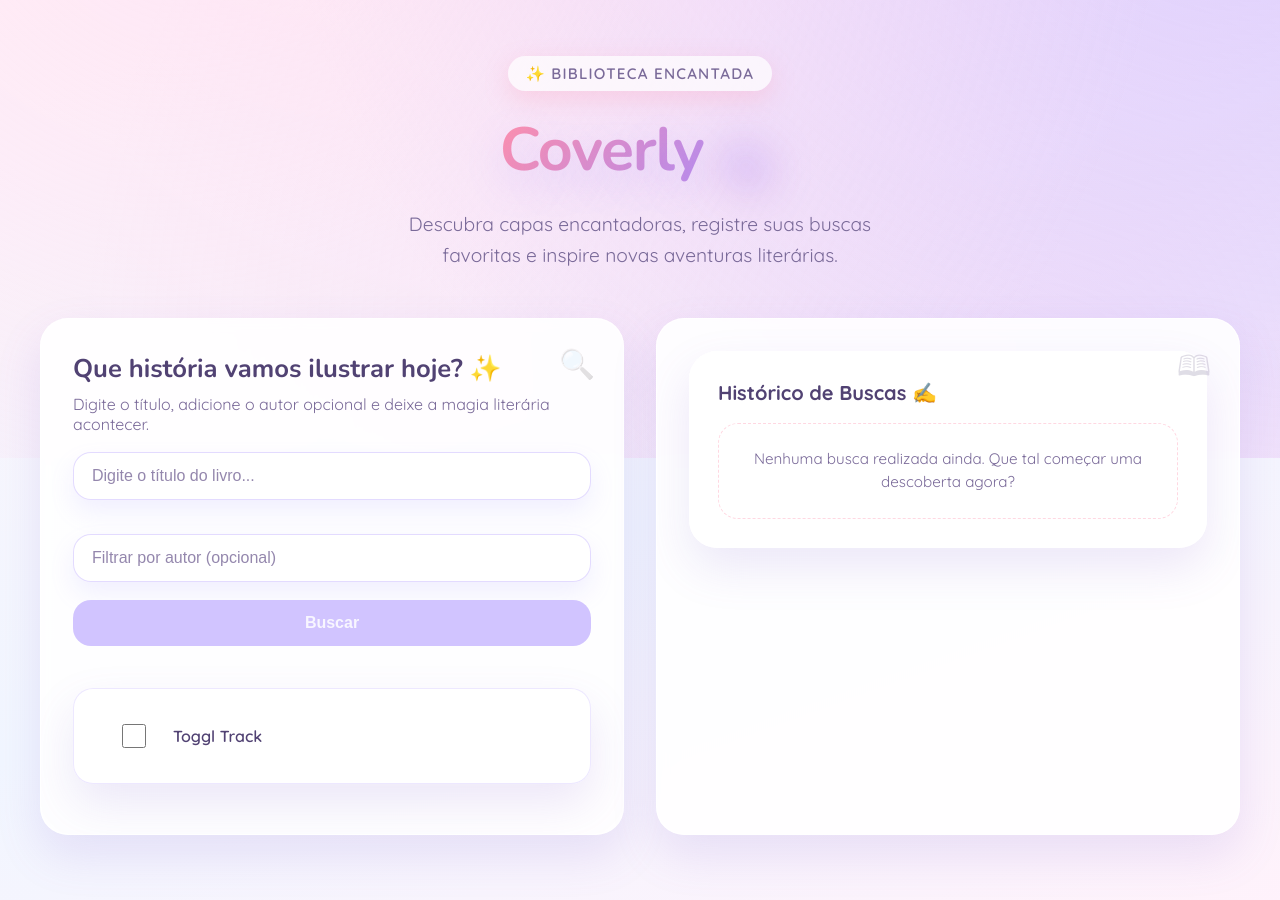
Test case: HomePage Toggl Track integration › enables the Toggl switch and shows tracked hours using the last searched title
This screenshot has width=1280, height=900.
Type "O Hobbit" into the field with placeholder "Digite o título do livro..." at (332, 476), box left=73, top=452, right=591, bottom=500
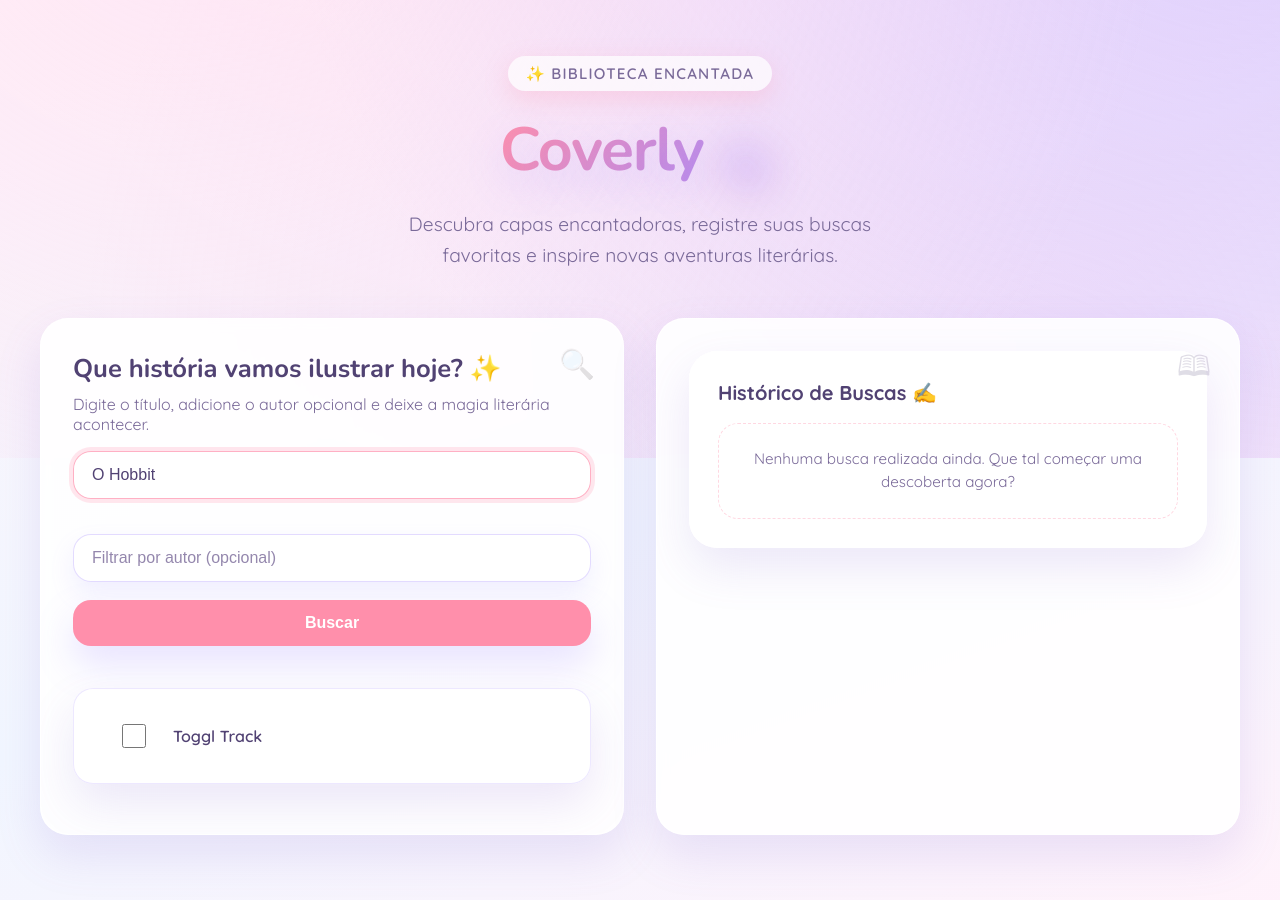
Click the button "Buscar" at (332, 623), box left=73, top=600, right=591, bottom=646
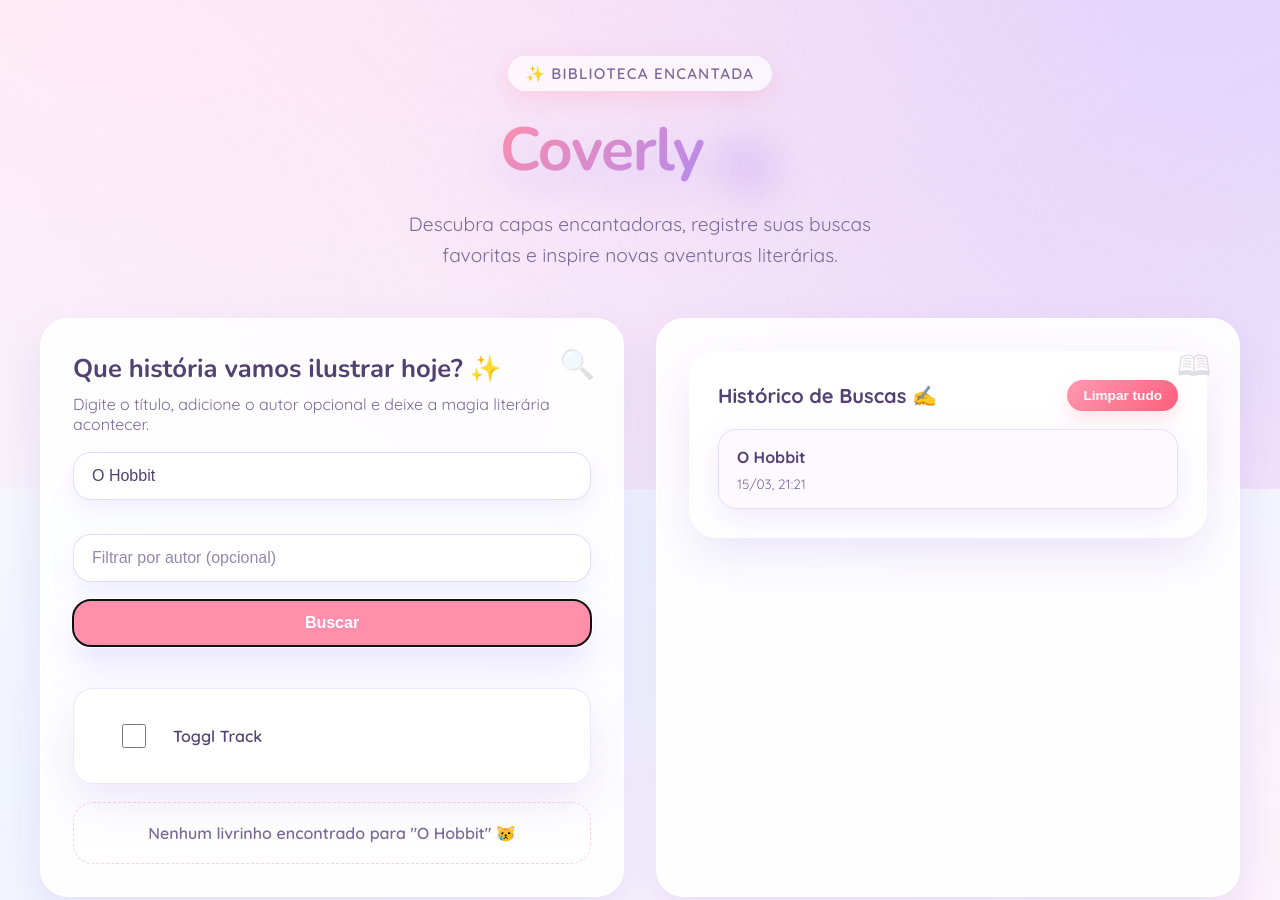
Click the checkbox labelled "Toggl Track" at (134, 736), box left=110, top=724, right=158, bottom=748
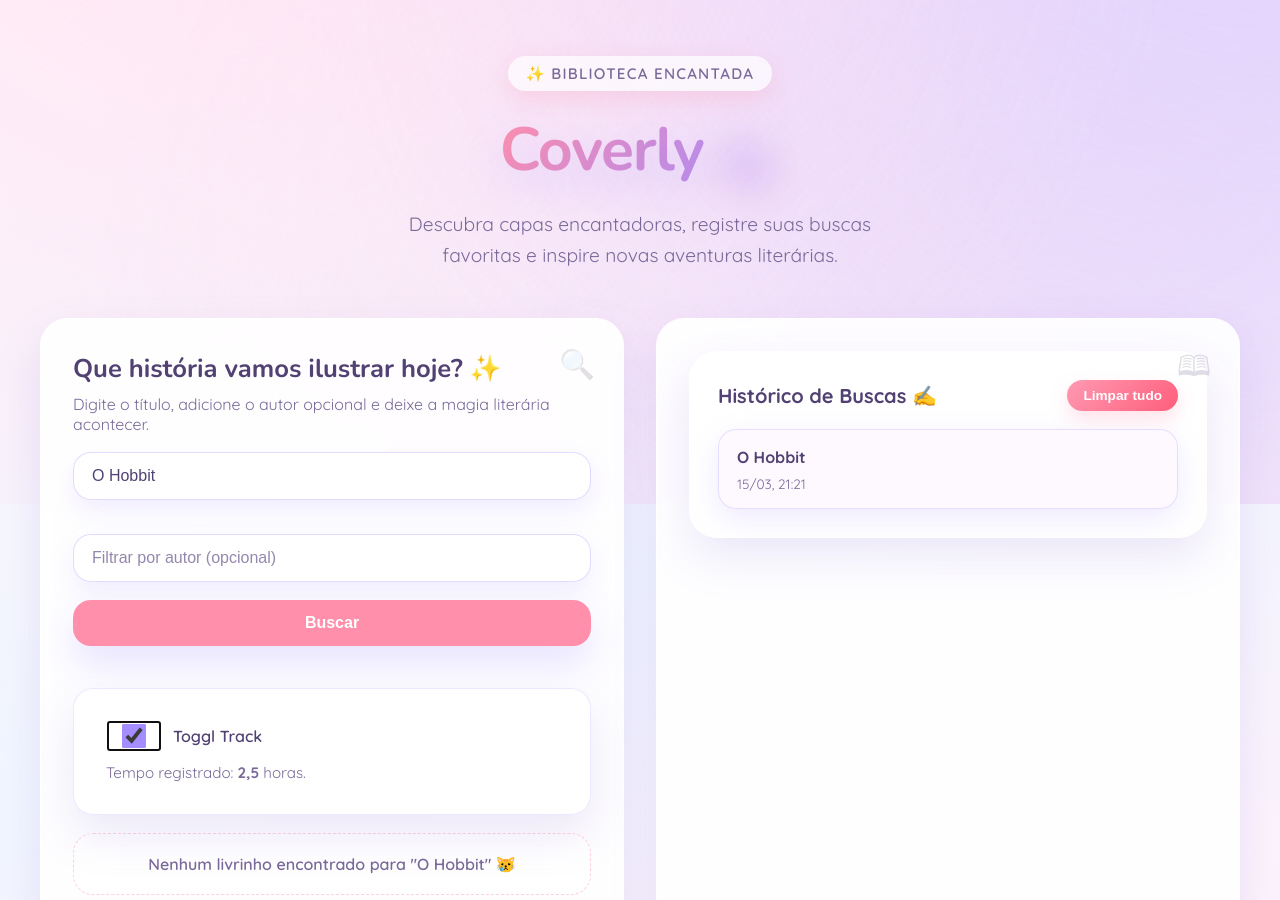
Expected: the text "Tempo registrado: 2,5 horas." is shown, left=106, top=763, right=306, bottom=782
